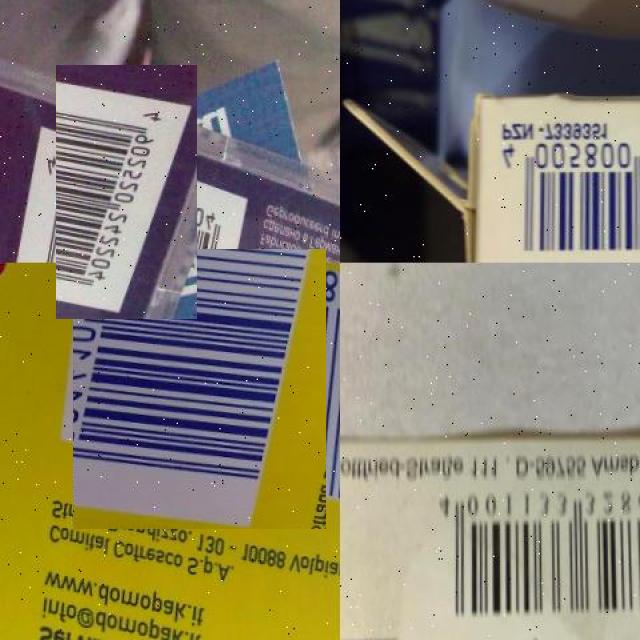Barcode: (66, 256, 333, 523), (28, 93, 226, 291), (429, 478, 640, 634), (495, 135, 640, 263)
